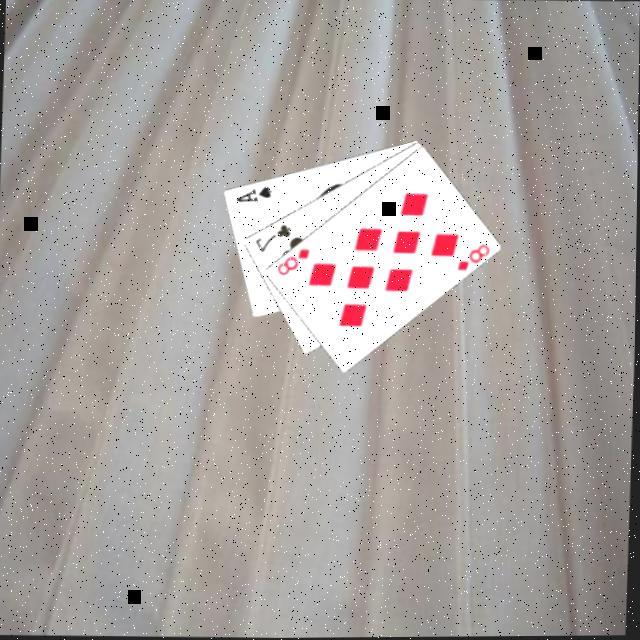7C: (253, 219, 295, 254)
8D: (276, 244, 315, 278), (456, 239, 494, 273)
AS: (234, 181, 275, 204)
